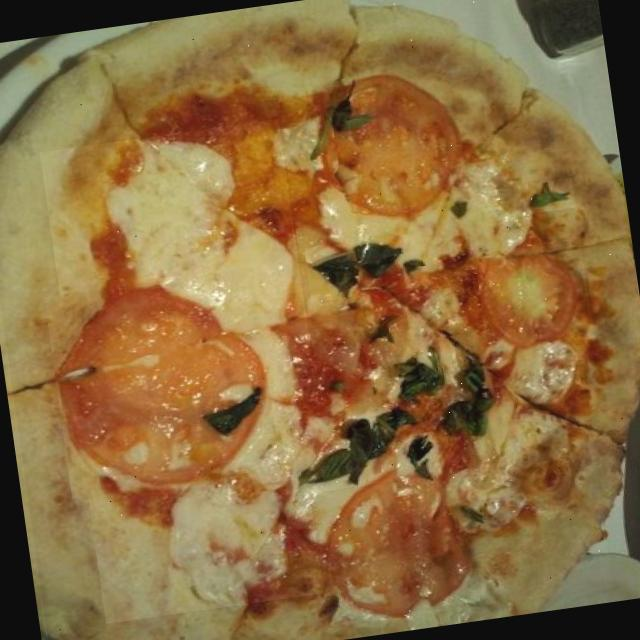basil: (290, 404, 427, 494), (304, 231, 429, 301), (436, 358, 502, 442), (195, 376, 275, 442), (322, 79, 378, 137), (389, 351, 448, 404), (402, 435, 442, 485), (525, 177, 575, 213), (454, 499, 486, 529), (448, 197, 474, 222)
cheese: (40, 118, 344, 623), (291, 318, 612, 626), (310, 125, 547, 292)
pizza: (0, 0, 640, 640)
tomato: (44, 267, 281, 498), (318, 457, 483, 622), (319, 62, 473, 226), (473, 237, 592, 352)
